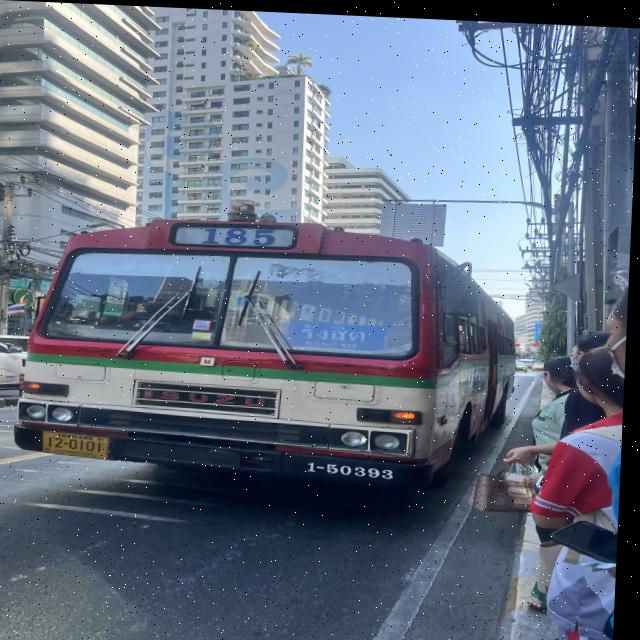BMTA-bus: (16, 215, 520, 489)
Bus Line Number: (174, 220, 301, 249)
Bus Side Number: (296, 456, 415, 482)
Destination Sign: (286, 315, 390, 351)
